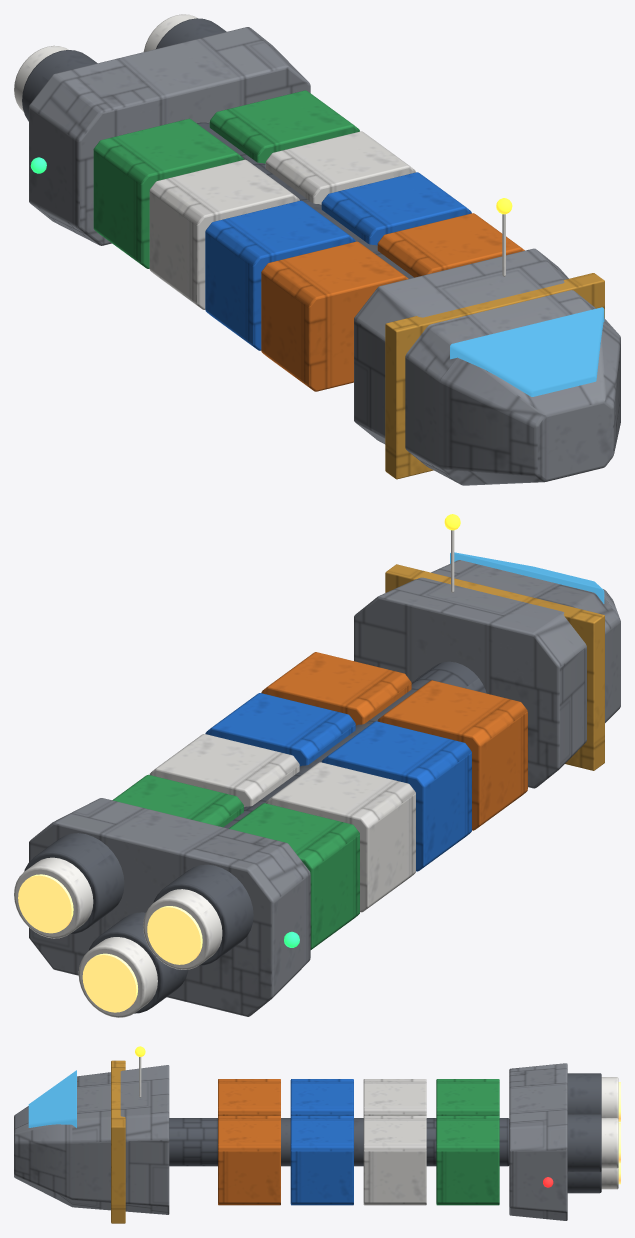
The model's file is star_hauler.glb.
The picture shows the model from 3 angles, top to bottom: view 1: azimuth 30°, elevation 25°; view 2: azimuth 150°, elevation 25°; view 3: azimuth 270°, elevation 25°; orthographic projection. The views are drawn at different scales.
Parts seen in each view (by area): view 1: Cab, EngineBlock, CargoAR0, CargoBR1, CargoCR2, CargoDR3, Windshield, Stripe, CargoDL3, CargoBL1, CargoCL2, CargoAL0 (+4 smaller); view 2: Cab, EngineBlock, CargoAR0, CargoBR1, CargoCR2, CargoDR3, CargoAL0, CargoBL1, CargoCL2, Stripe, CargoDL3, NacelleL (+10 smaller); view 3: Cab, EngineBlock, CargoCL2, CargoDL3, CargoBL1, CargoAL0, Spine, CargoDR3, CargoBR1, CargoCR2, CargoAR0, Stripe (+7 smaller).
Part boxes in pixels (bbox=[...]): Cab: bbox=[354, 248, 620, 485]; EngineBlock: bbox=[29, 27, 310, 245]; CargoAR0: bbox=[261, 241, 408, 391]; CargoBR1: bbox=[205, 200, 355, 350]; CargoCR2: bbox=[149, 159, 299, 309]; CargoDR3: bbox=[93, 118, 243, 268]; Windshield: bbox=[450, 307, 604, 396]; Stripe: bbox=[385, 273, 604, 479]; CargoDL3: bbox=[209, 90, 359, 163]; CargoBL1: bbox=[321, 172, 471, 245]; CargoCL2: bbox=[265, 131, 415, 204]; CargoAL0: bbox=[377, 213, 524, 277]; Cab: bbox=[354, 560, 620, 788]; EngineBlock: bbox=[29, 798, 310, 1016]; CargoAR0: bbox=[377, 680, 527, 830]; CargoBR1: bbox=[321, 721, 471, 871]; CargoCR2: bbox=[266, 762, 415, 912]; CargoDR3: bbox=[229, 803, 359, 949]; CargoAL0: bbox=[261, 652, 411, 725]; CargoBL1: bbox=[205, 693, 355, 766]; CargoCL2: bbox=[149, 734, 299, 807]; Stripe: bbox=[385, 564, 604, 770]; CargoDL3: bbox=[112, 774, 243, 827]; NacelleL: bbox=[24, 833, 124, 934]; Cab: bbox=[14, 1065, 169, 1214]; EngineBlock: bbox=[509, 1063, 567, 1220]; CargoCL2: bbox=[363, 1116, 426, 1205]; CargoDL3: bbox=[436, 1116, 499, 1205]; CargoBL1: bbox=[290, 1116, 353, 1205]; CargoAL0: bbox=[218, 1116, 280, 1205]; Spine: bbox=[169, 1118, 509, 1166]; CargoDR3: bbox=[436, 1079, 499, 1116]; CargoBR1: bbox=[290, 1079, 353, 1116]; CargoCR2: bbox=[363, 1079, 426, 1115]; CargoAR0: bbox=[218, 1079, 280, 1115]; Stripe: bbox=[111, 1060, 125, 1223].
Size of the model in its own units: 0.207 by 0.1725 by 0.625.
13 materials, 8 textured.
